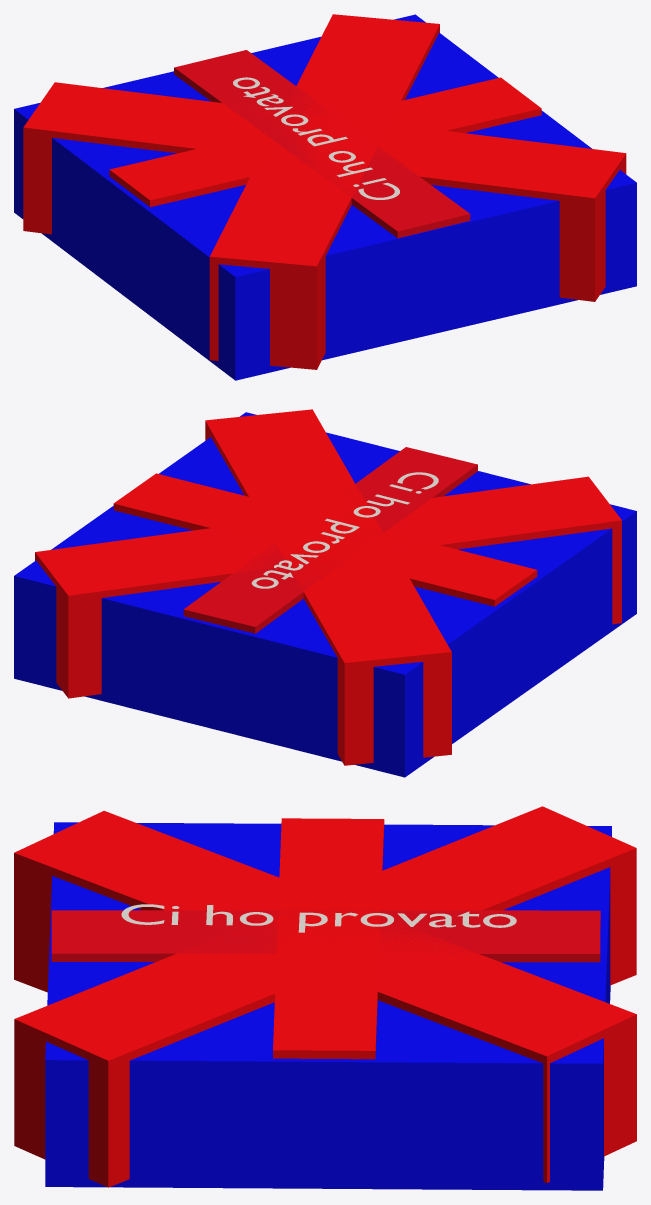
File: britainFlag.gltf
3 renders of one model, top to bottom at view 1: azimuth 30°, elevation 25°; view 2: azimuth 150°, elevation 25°; view 3: azimuth 270°, elevation 25°, orthographic. The views are drawn at different scales.
Parts seen in each view (by area): view 1: Cube.004, Cube.003, Cube.002, Cube, Cube.001, aaa; view 2: Cube.004, Cube.002, Cube.003, Cube.001, Cube, aaa; view 3: Cube.004, Cube.002, Cube.003, Cube.001, Cube, aaa.
Boxes of the visible parts, x1=… form: Cube.004: x1=14, y1=14, x2=636, y2=380; Cube.003: x1=209, y1=14, x2=439, y2=369; Cube.002: x1=23, y1=82, x2=626, y2=301; Cube: x1=174, y1=50, x2=470, y2=238; Cube.001: x1=109, y1=77, x2=541, y2=207; aaa: x1=233, y1=77, x2=399, y2=199; Cube.004: x1=14, y1=412, x2=636, y2=777; Cube.002: x1=205, y1=409, x2=451, y2=765; Cube.003: x1=35, y1=476, x2=621, y2=698; Cube.001: x1=113, y1=473, x2=537, y2=606; Cube: x1=183, y1=447, x2=477, y2=633; aaa: x1=251, y1=472, x2=438, y2=588; Cube.004: x1=45, y1=822, x2=611, y2=1190; Cube.002: x1=14, y1=806, x2=636, y2=1187; Cube.003: x1=14, y1=811, x2=636, y2=1182; Cube.001: x1=273, y1=818, x2=384, y2=1059; Cube: x1=51, y1=910, x2=600, y2=962; aaa: x1=121, y1=904, x2=516, y2=932.
Size of the model in its own units: 8.6 by 2.26 by 8.9.
